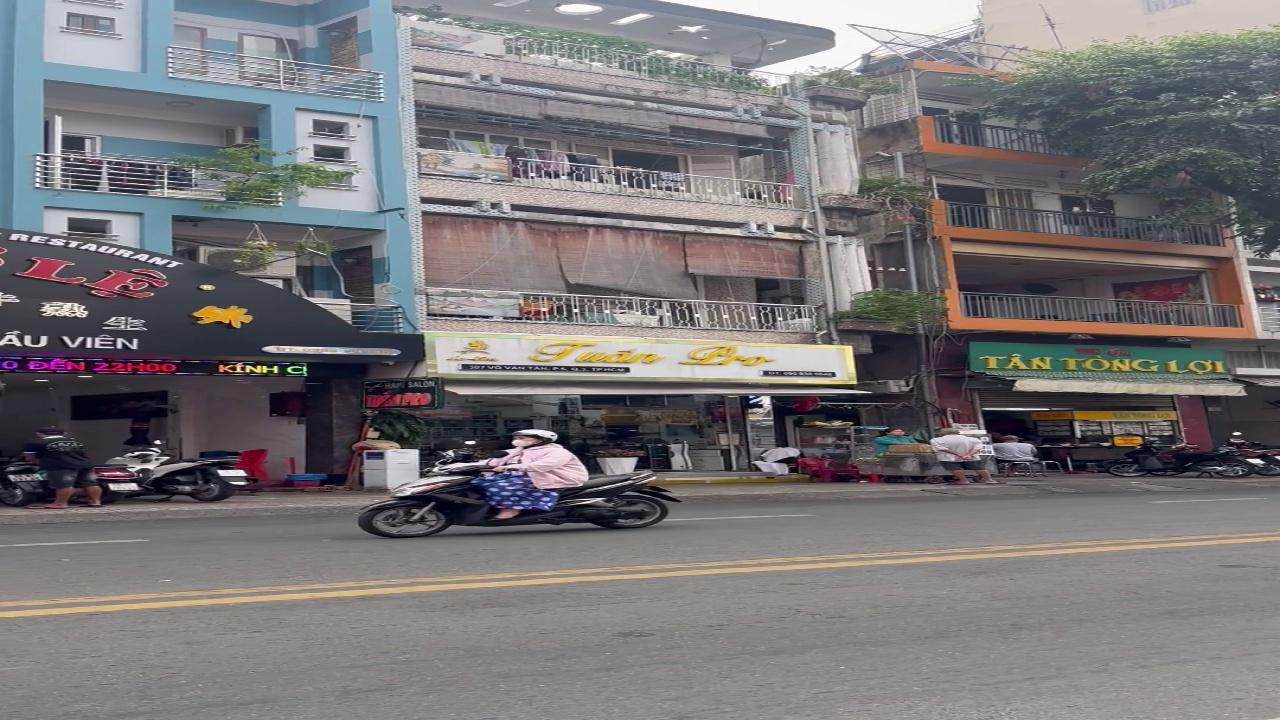Helmet: (512, 426, 559, 450)
Motor: (358, 449, 679, 537), (105, 447, 250, 501), (1106, 439, 1253, 477), (0, 461, 53, 506), (1225, 432, 1279, 475)
